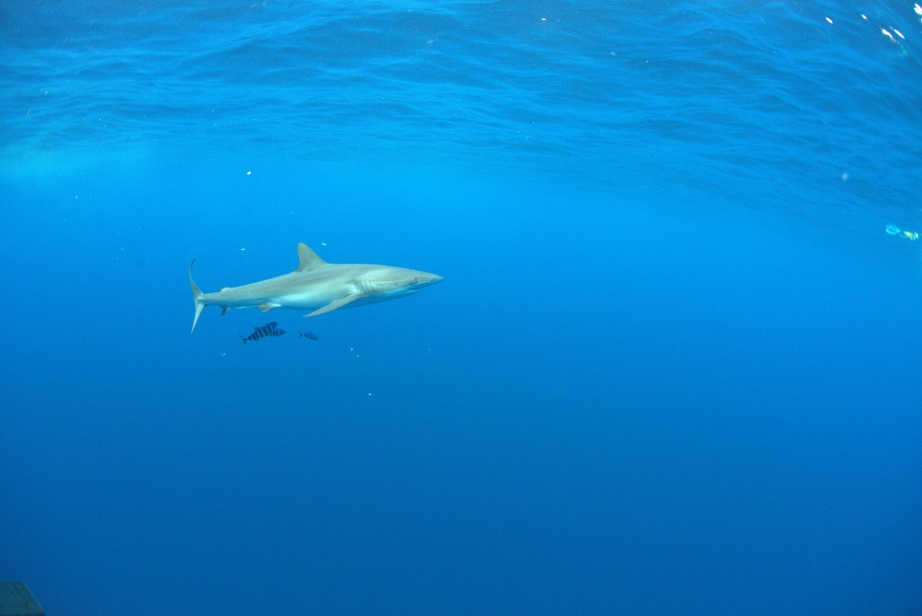Sedoso: (172, 239, 480, 341)
